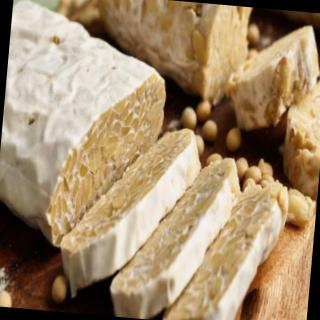Tempe: (1, 1, 307, 320)
